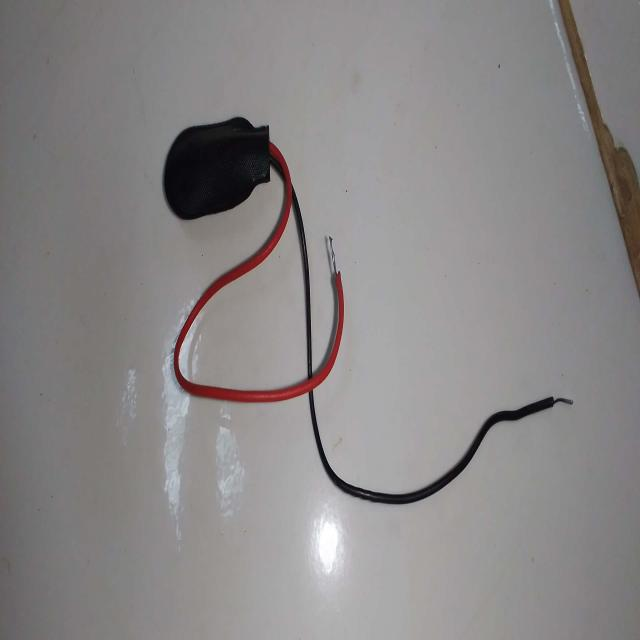Battery Holder: (156, 111, 351, 438)
